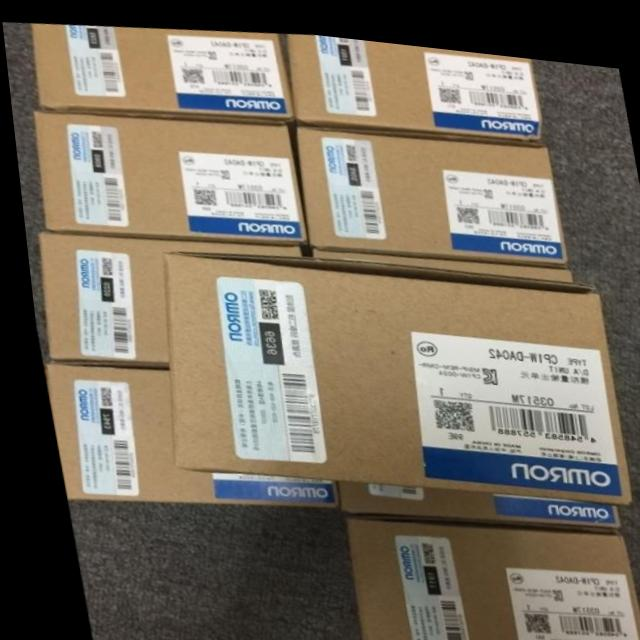box: (159, 248, 623, 490), (33, 357, 326, 504), (333, 508, 634, 640), (286, 121, 563, 256), (34, 226, 297, 362), (33, 110, 309, 237), (284, 27, 539, 129), (28, 25, 292, 114), (324, 476, 610, 518), (305, 241, 566, 268)
